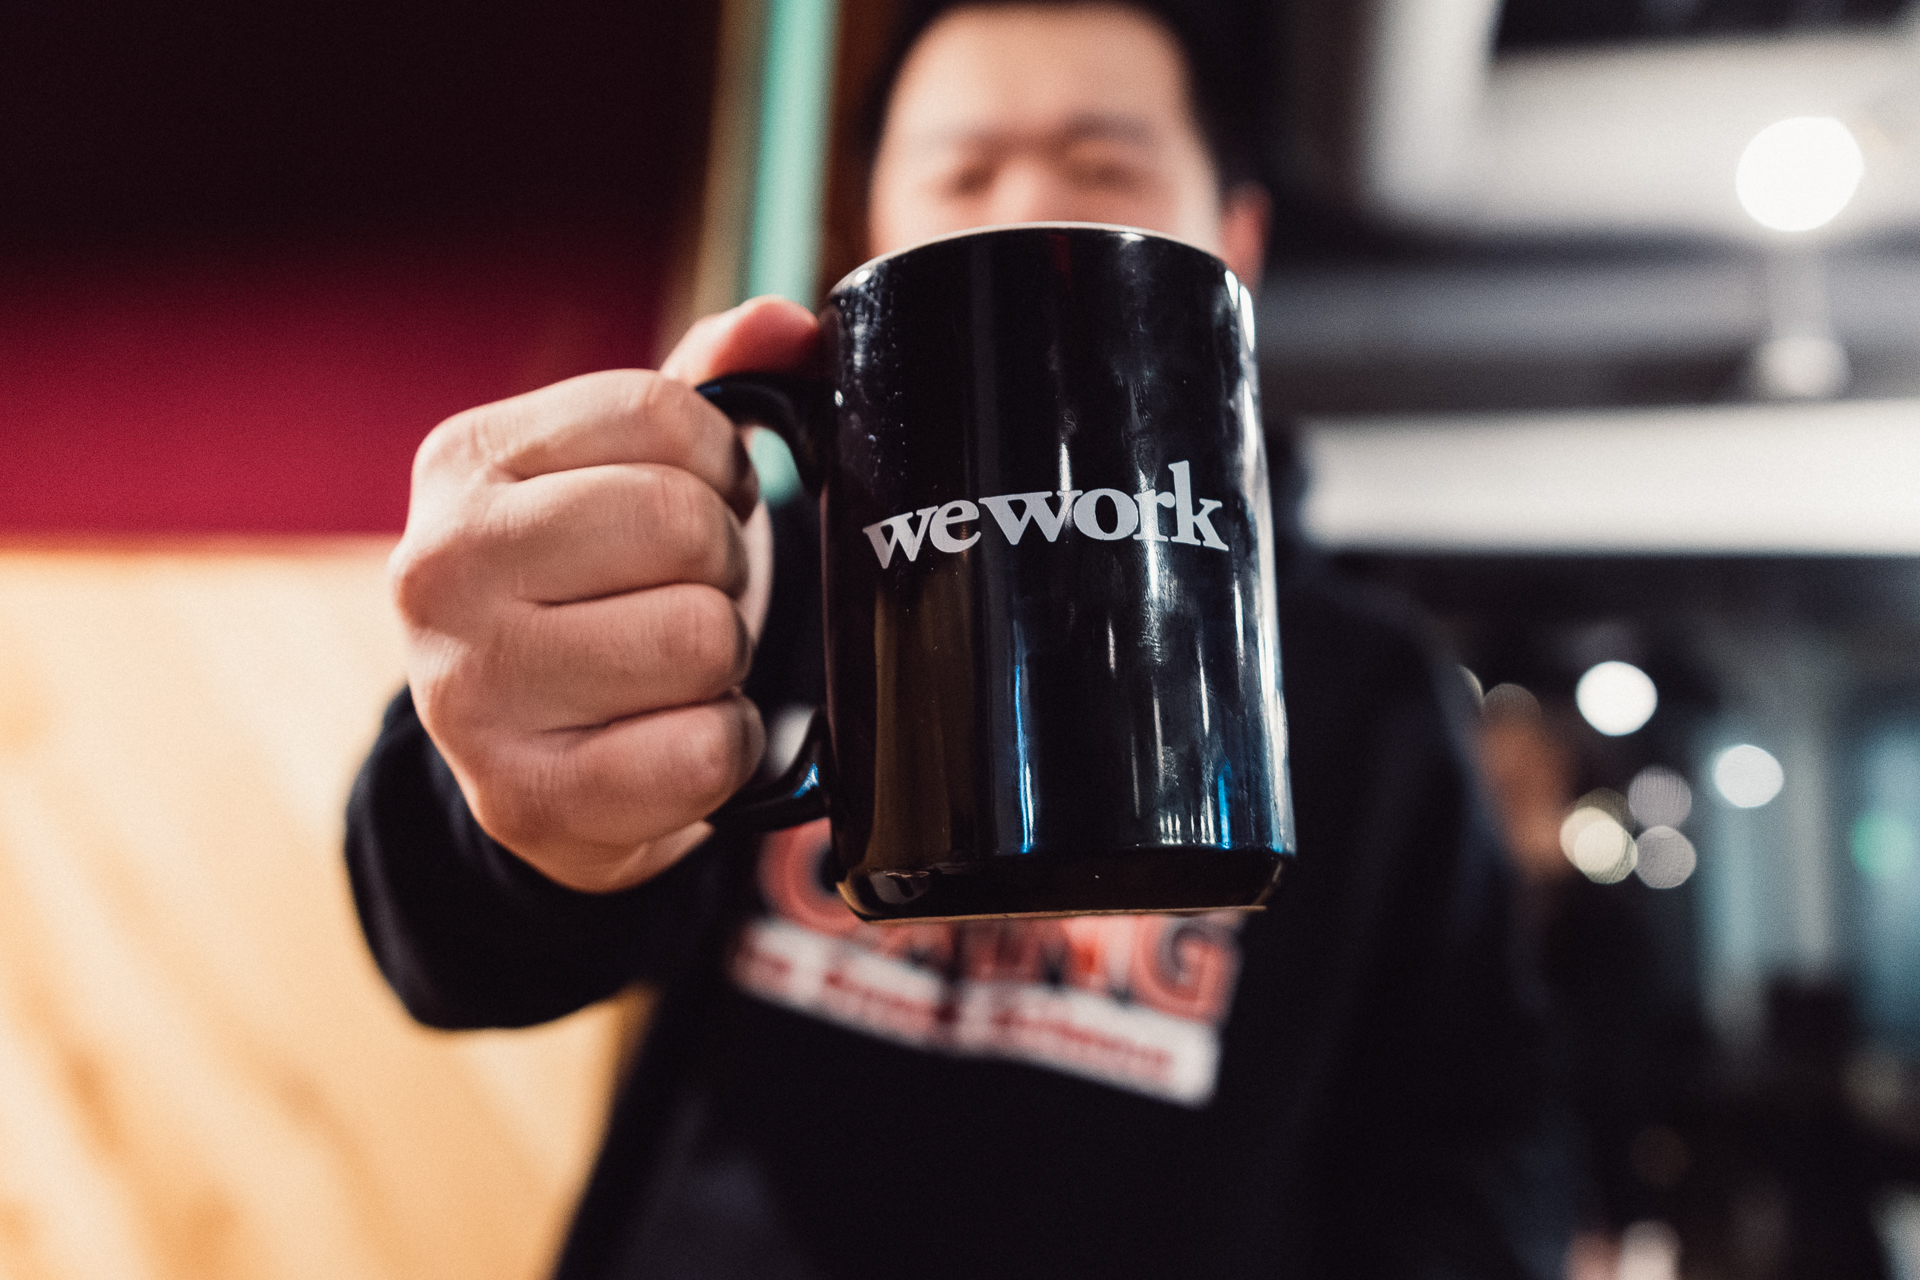wework: (854, 451, 1239, 576)
